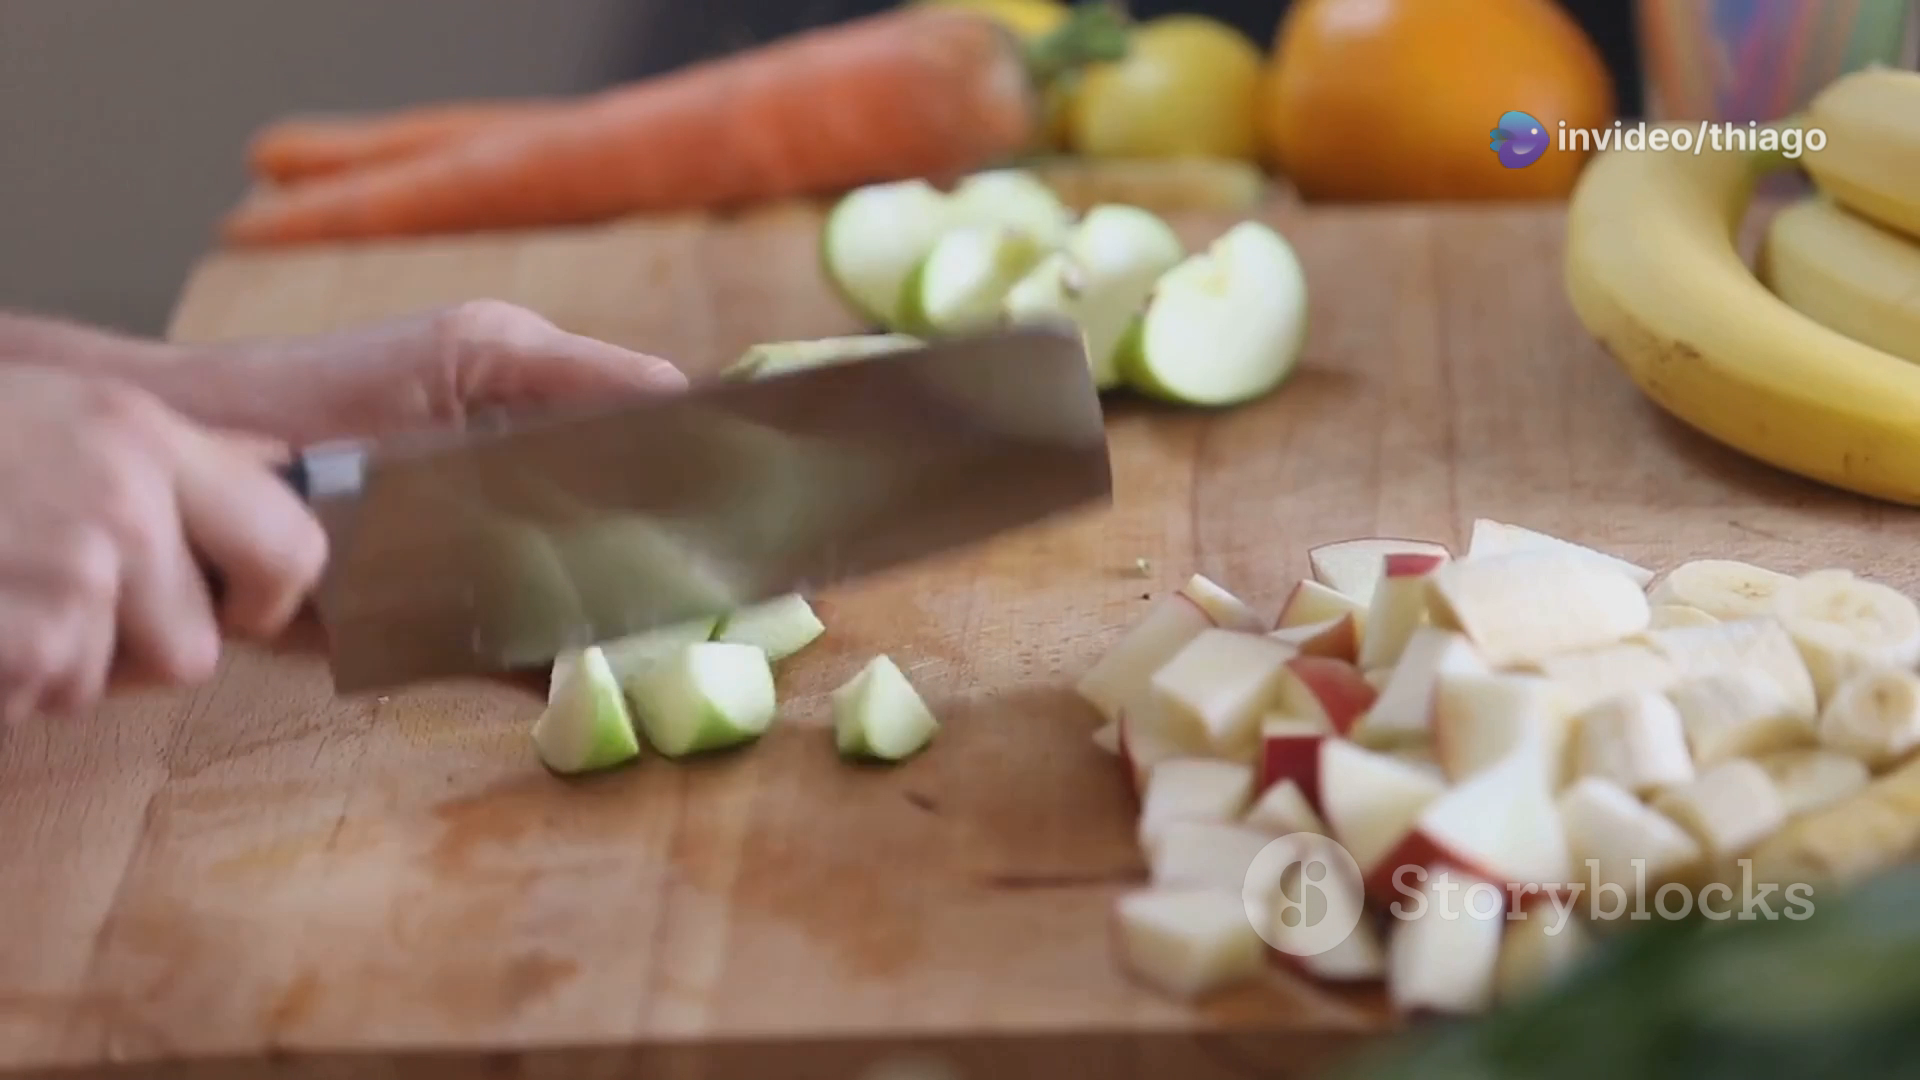cortante: (280, 323, 1114, 696)
